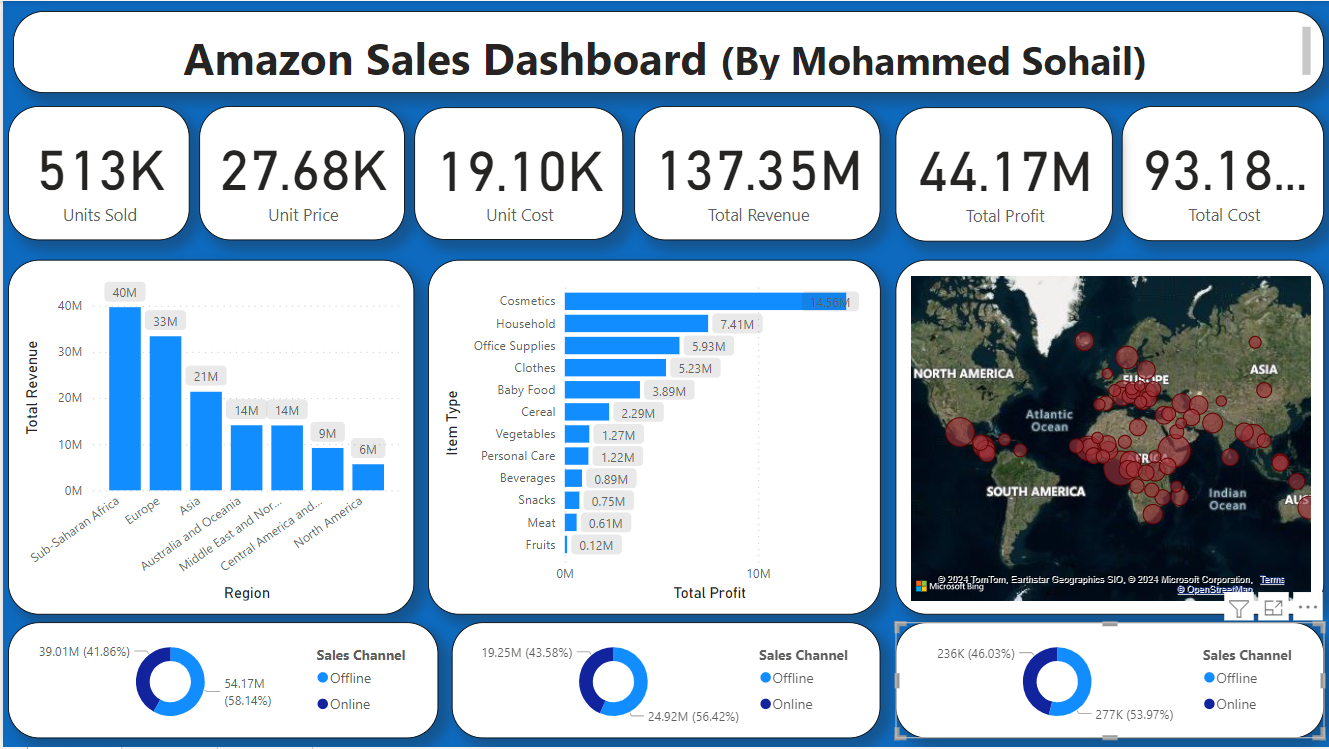

The dashboard page shown, as its layout file describes it:
{"tool":"powerbi","page":{"name":"Page 1","canvas":[1280,720],"ordinal":0},"visuals":[{"type":"textbox","box":[9.6,9.6,1265.1,79.6],"z":0},{"type":"card","title":"Total Unit Sold","fields":{"Values":["Sum(Amazon Sales data.Units Sold)"]},"box":[4.7,101.5,174.9,129.6],"z":1000},{"type":"card","fields":{"Values":["Sum(Amazon Sales data.Unit Price)"]},"box":[189,101.5,198.4,129.6],"z":2000},{"type":"card","fields":{"Values":["Sum(Amazon Sales data.Unit Cost)"]},"box":[396.7,103.1,201.5,128.1],"z":3000},{"type":"card","fields":{"Values":["Sum(Amazon Sales data.Total Revenue)"]},"box":[609.1,101.5,237.4,129.6],"z":4000},{"type":"card","fields":{"Values":["Sum(Amazon Sales data.Total Cost)"]},"box":[1079.4,101.3,195.4,130.3],"z":5000},{"type":"card","fields":{"Values":["Sum(Amazon Sales data.Total Profit)"]},"box":[860.6,103.1,209.3,129.6],"z":6000},{"type":"clusteredColumnChart","fields":{"Y":["Sum(Amazon Sales data.Total Revenue)"],"Category":["Amazon Sales data.Region"]},"box":[4.7,249.9,392,342],"z":7000},{"type":"barChart","fields":{"Category":["Amazon Sales data.Item Type"],"Y":["Sum(Amazon Sales data.Total Profit)"]},"box":[410.1,249.6,436.6,342.5],"z":8000},{"type":"map","fields":{"Category":["Amazon Sales data.Country"],"Size":["Sum(Amazon Sales data.Units Sold)"]},"box":[861.1,249.6,413.7,342.5],"z":9000},{"type":"donutChart","fields":{"Category":["Amazon Sales data.Sales Channel"],"Y":["Sum(Amazon Sales data.Total Cost)"]},"box":[4.8,599.4,414.9,112.2],"z":10000},{"type":"donutChart","fields":{"Category":["Amazon Sales data.Sales Channel"],"Y":["Sum(Amazon Sales data.Total Profit)"]},"box":[433,599.4,413.7,112.2],"z":11000},{"type":"donutChart","fields":{"Category":["Amazon Sales data.Sales Channel"],"Y":["Sum(Amazon Sales data.Units Sold)"]},"box":[861.1,599.4,413.7,112.2],"z":12000}]}

Visuals, with their boxes in screenshot pixels (x1, y1, x2, y2), scaled from the page's 1280x720 canvas onto the 1329x749 screenshot:
textbox: [10,10,1323,93]
"Total Unit Sold" card: [5,106,186,240]
card - Sum(Amazon Sales data.Unit Price): [196,106,402,240]
card - Sum(Amazon Sales data.Unit Cost): [412,107,621,241]
card - Sum(Amazon Sales data.Total Revenue): [632,106,879,240]
card - Sum(Amazon Sales data.Total Cost): [1121,105,1324,241]
card - Sum(Amazon Sales data.Total Profit): [894,107,1111,242]
clusteredColumnChart - Sum(Amazon Sales data.Total Revenue) x Amazon Sales data.Region: [5,260,412,616]
barChart - Amazon Sales data.Item Type x Sum(Amazon Sales data.Total Profit): [426,260,879,616]
map - Amazon Sales data.Country x Sum(Amazon Sales data.Units Sold): [894,260,1324,616]
donutChart - Amazon Sales data.Sales Channel x Sum(Amazon Sales data.Total Cost): [5,624,436,740]
donutChart - Amazon Sales data.Sales Channel x Sum(Amazon Sales data.Total Profit): [450,624,879,740]
donutChart - Amazon Sales data.Sales Channel x Sum(Amazon Sales data.Units Sold): [894,624,1324,740]
